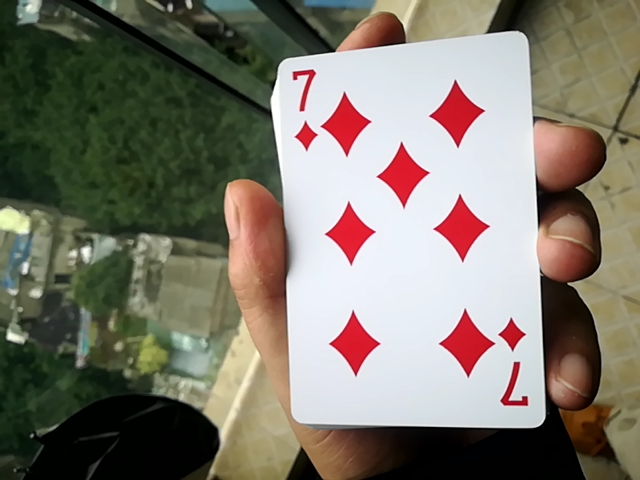fk 7: (250, 27, 546, 425)
